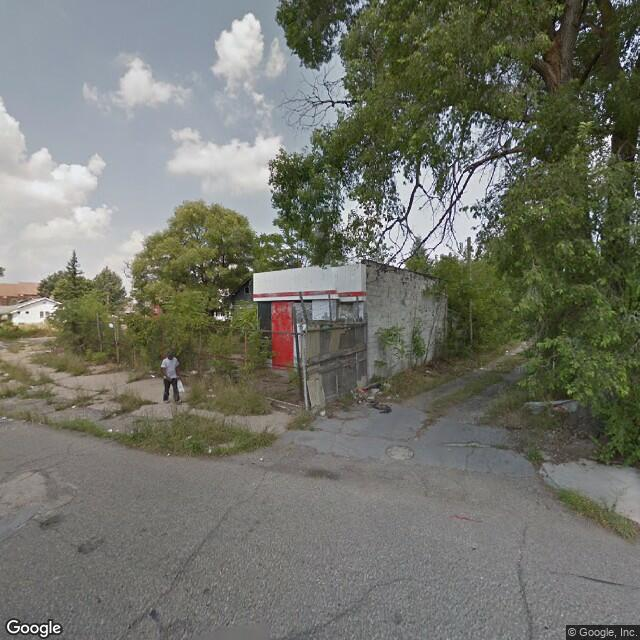litter: (353, 387, 380, 402), (314, 408, 331, 418), (68, 401, 78, 410), (203, 447, 215, 454), (1, 415, 13, 421), (1, 373, 11, 380), (105, 429, 113, 436)
